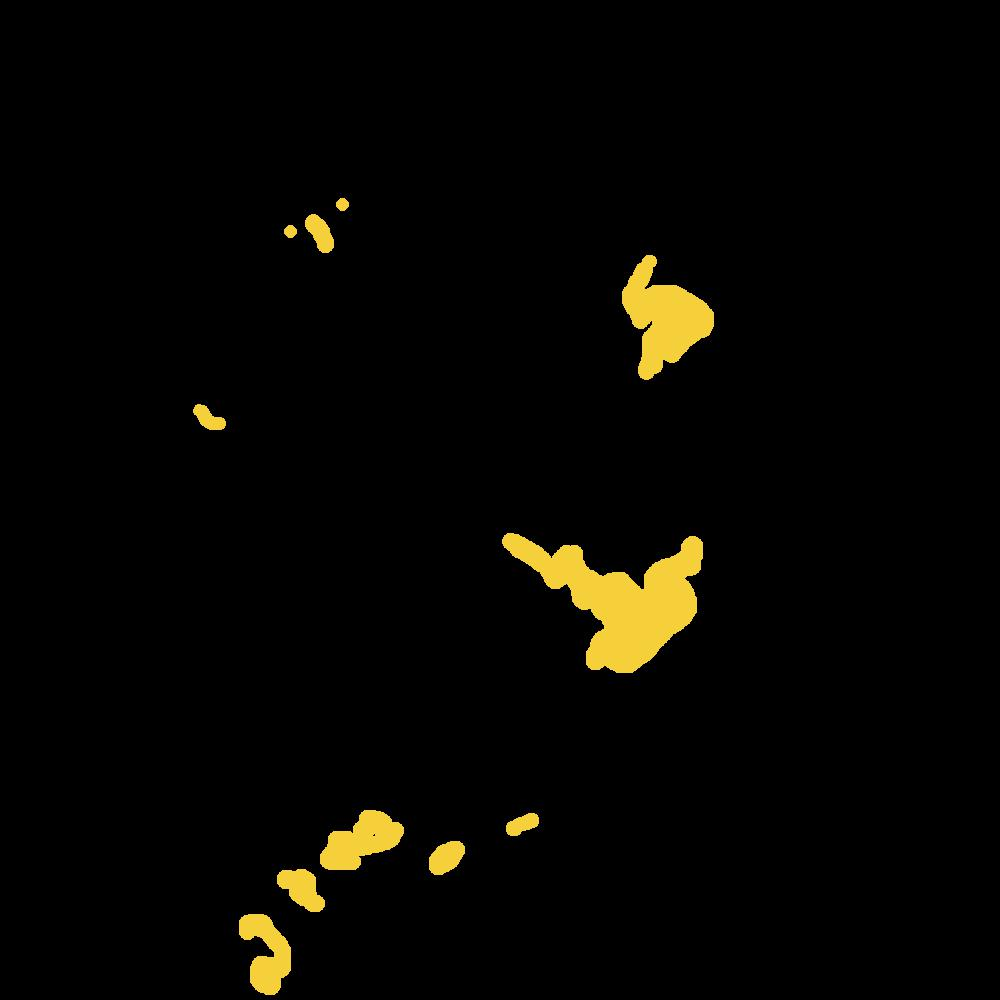legal: (503, 527, 704, 674), (623, 257, 711, 375), (323, 810, 404, 873), (237, 911, 296, 996), (282, 198, 345, 252), (429, 811, 463, 883), (283, 864, 320, 913), (191, 404, 228, 428)
